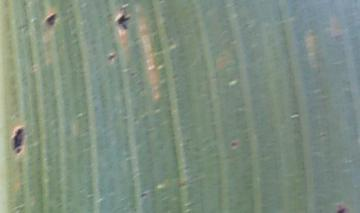tarspot: (7, 124, 25, 156), (113, 6, 132, 32), (44, 10, 58, 28), (333, 201, 347, 213), (106, 51, 118, 63), (229, 139, 239, 149), (137, 192, 150, 198)
